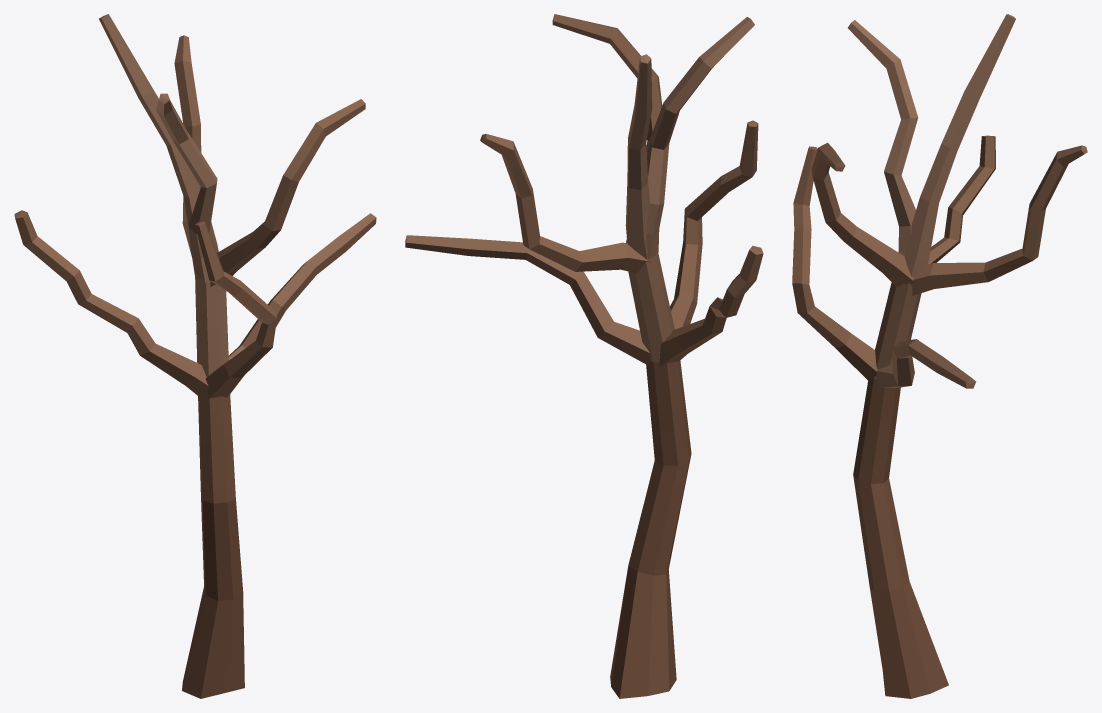
Rendered from naked_tree_8.fbx.
The picture shows the model from 3 angles, left to right: view 1: azimuth 30°, elevation 25°; view 2: azimuth 150°, elevation 25°; view 3: azimuth 270°, elevation 25°; orthographic projection. The views are drawn at different scales.
Parts seen in each view (by area): view 1: naked_tree_8; view 2: naked_tree_8; view 3: naked_tree_8.
Part boxes in pixels (x1,y1,x2,y2): naked_tree_8: (14, 14, 376, 698); naked_tree_8: (405, 14, 763, 698); naked_tree_8: (792, 14, 1087, 698).
Bounding box in the file's own units: 369 × 652 × 271.
